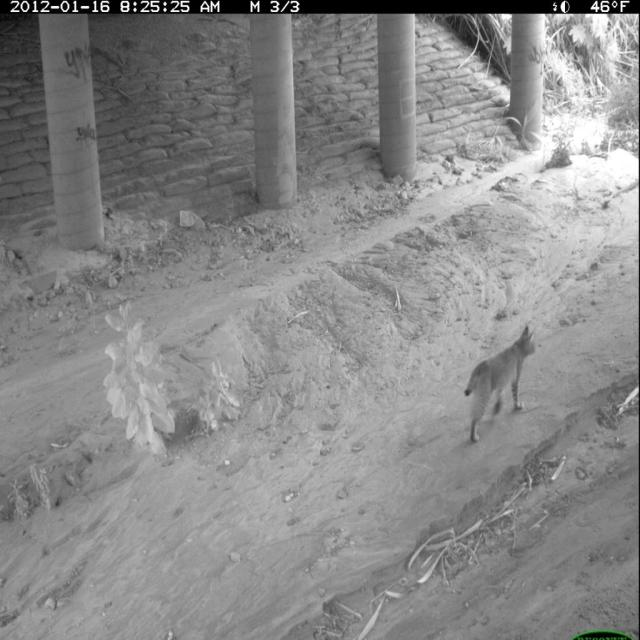bobcat: (461, 323, 541, 447)
